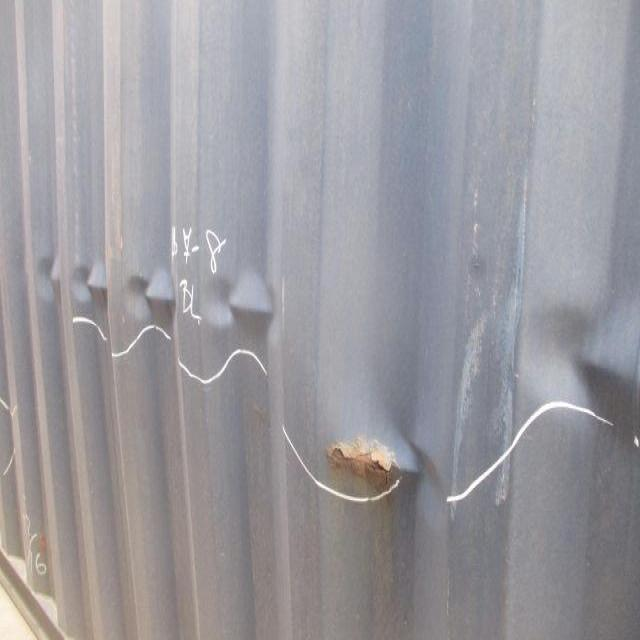dent: (30, 251, 295, 347), (308, 400, 463, 524)
